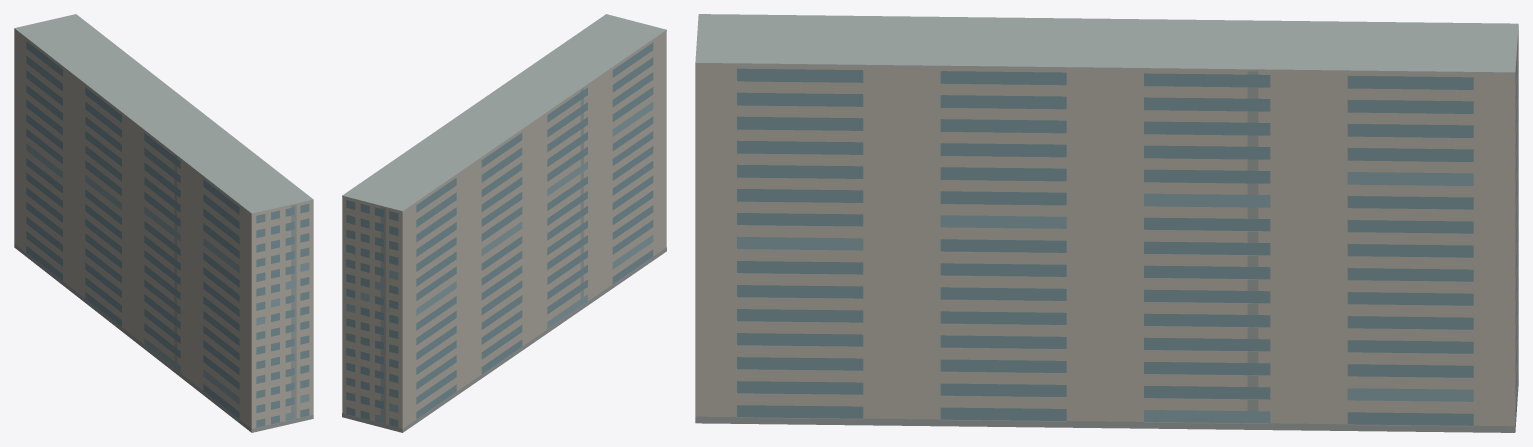
Rendered from residential-fa5c8407-0e3b-4d88-9128-f2e3f4c92c9d.glb.
3 views of the same model, side by side, from view 1: azimuth 30°, elevation 25°; view 2: azimuth 150°, elevation 25°; view 3: azimuth 270°, elevation 25° (orthographic). The views are drawn at different scales.
Parts seen in each view (by area): view 1: residential-fa5c8407-0e3b-4d88-9128-f2e3f4c92c9d.tmp; view 2: residential-fa5c8407-0e3b-4d88-9128-f2e3f4c92c9d.tmp; view 3: residential-fa5c8407-0e3b-4d88-9128-f2e3f4c92c9d.tmp.
Part boxes in pixels (left/top/right/bottom): residential-fa5c8407-0e3b-4d88-9128-f2e3f4c92c9d.tmp: left=14, top=14, right=313, bottom=432; residential-fa5c8407-0e3b-4d88-9128-f2e3f4c92c9d.tmp: left=342, top=14, right=666, bottom=432; residential-fa5c8407-0e3b-4d88-9128-f2e3f4c92c9d.tmp: left=695, top=14, right=1518, bottom=432.
Bounding box in the file's own units: 15.91 × 45.75 × 94.69.
